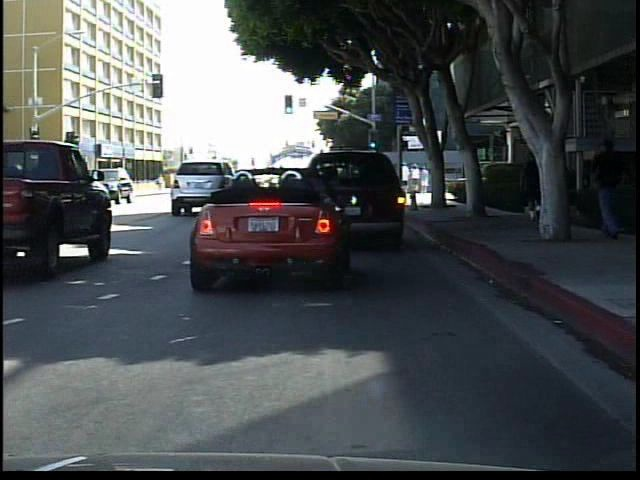person: (587, 132, 631, 239), (516, 147, 545, 229), (155, 171, 169, 195)
